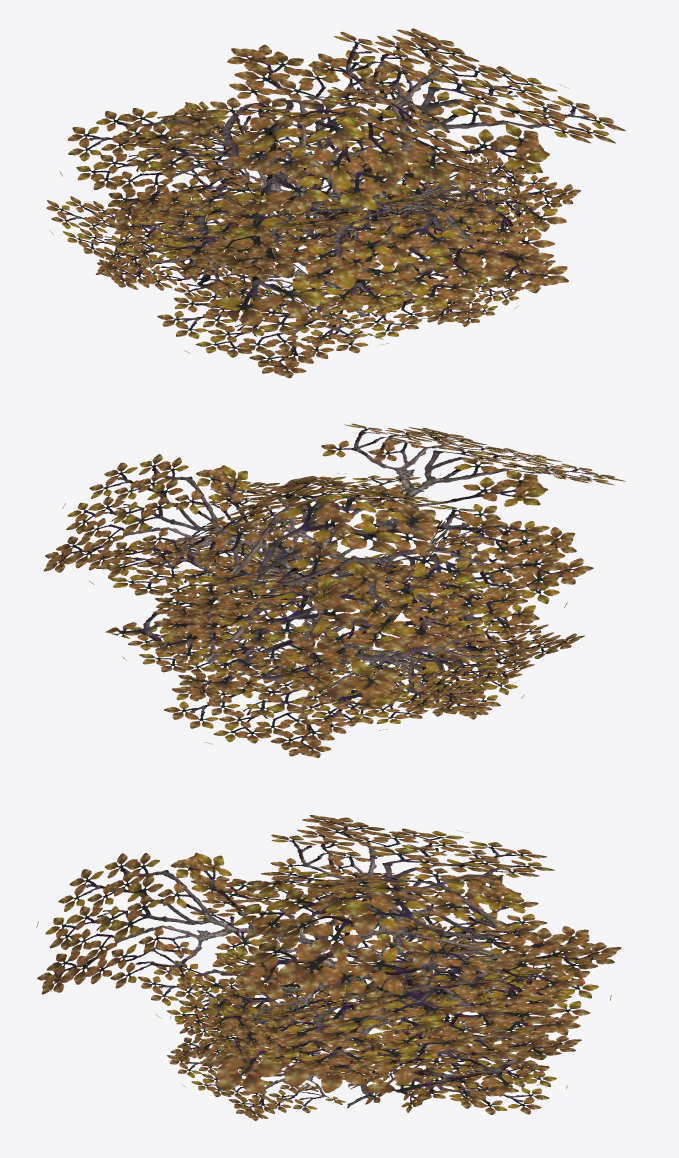
Rendered from flora_tree_bush_temperate_autumn_v3.glb.
3 views of the same model, one above another, from view 1: azimuth 30°, elevation 25°; view 2: azimuth 150°, elevation 25°; view 3: azimuth 270°, elevation 25° (orthographic). The views are drawn at different scales.
Visible parts, largest first — view 1: flora_tree_bush_temperate_autumn_v3_part0; view 2: flora_tree_bush_temperate_autumn_v3_part0; view 3: flora_tree_bush_temperate_autumn_v3_part0.
Boxes of the visible parts, x1,y1,x2,y2 form: flora_tree_bush_temperate_autumn_v3_part0: [46, 28, 625, 378]; flora_tree_bush_temperate_autumn_v3_part0: [43, 423, 625, 757]; flora_tree_bush_temperate_autumn_v3_part0: [36, 815, 621, 1120].
Bounding box in the file's own units: 10.63 × 3.66 × 10.99.
Materials: 1 (1 with a texture image).
